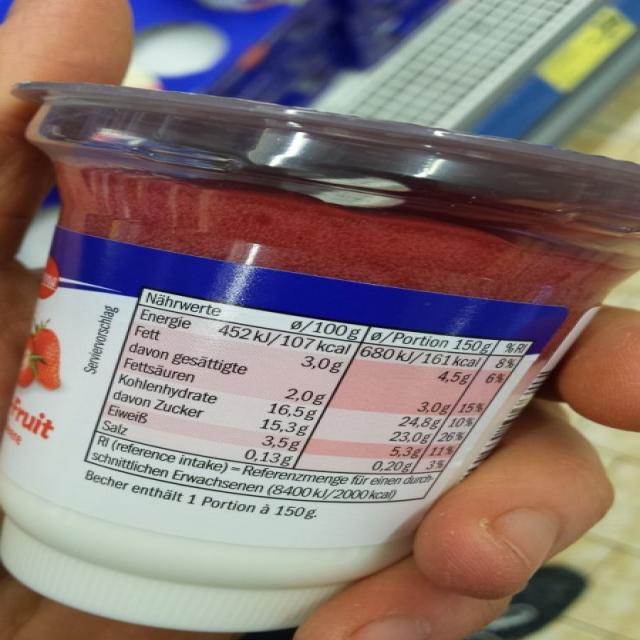yogurt: (1, 80, 640, 633)
